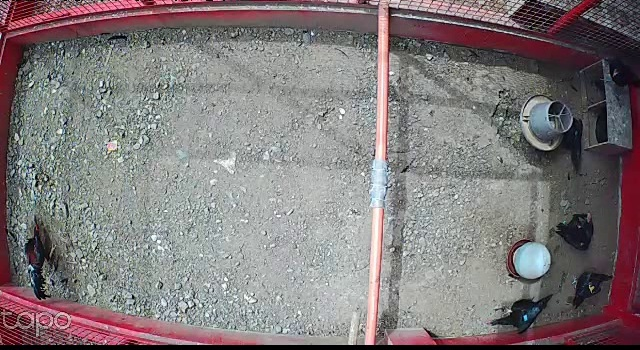Chicken: (488, 287, 555, 336), (570, 268, 616, 312), (558, 114, 588, 176), (602, 52, 640, 98), (553, 210, 594, 251)
Drinker: (506, 239, 553, 280)
Feeder: (516, 92, 574, 154)
Rooster: (24, 219, 60, 305)
Saddle_Color_Blue: (522, 312, 529, 321)
Saddle_Color_Yellow: (587, 281, 596, 293)
